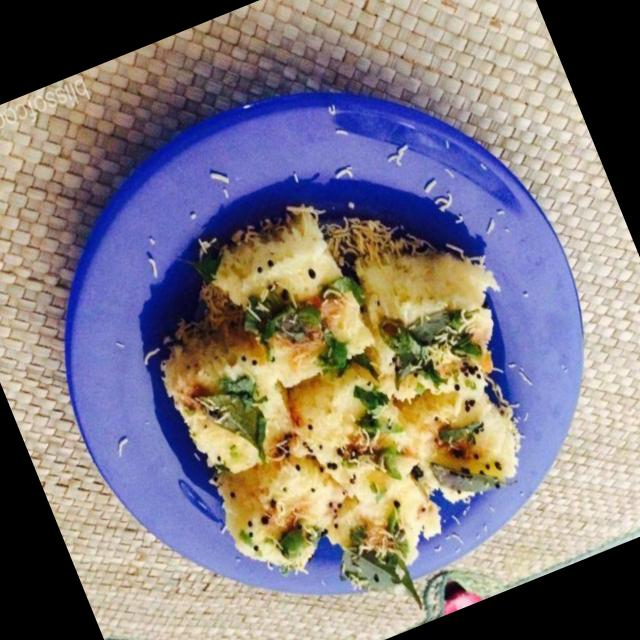dhokla: (76, 143, 594, 632)
